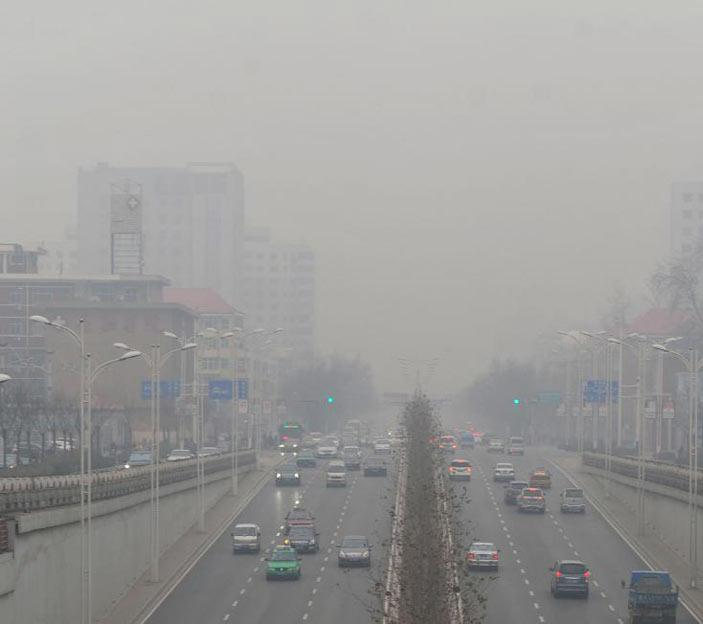bus: (619, 569, 681, 623), (278, 421, 305, 456)
car: (548, 560, 591, 600), (264, 545, 303, 581), (335, 534, 374, 569), (464, 541, 501, 573), (283, 524, 321, 555), (121, 451, 162, 477), (284, 508, 318, 539), (231, 522, 261, 555), (1, 445, 37, 471), (48, 436, 83, 461), (11, 441, 47, 465), (515, 488, 547, 513), (559, 488, 587, 514), (502, 480, 529, 506), (274, 462, 303, 486), (164, 448, 196, 468), (324, 460, 348, 486), (447, 459, 473, 482), (362, 456, 389, 478), (528, 466, 553, 489), (198, 446, 224, 466), (492, 463, 517, 483), (295, 448, 317, 468), (340, 445, 362, 463), (317, 441, 339, 458), (439, 435, 457, 454), (507, 437, 524, 457), (320, 436, 343, 450), (373, 439, 392, 455), (342, 456, 362, 471), (460, 432, 476, 450), (389, 435, 408, 449), (488, 439, 505, 453), (309, 432, 323, 448), (472, 431, 486, 445), (427, 434, 440, 447), (303, 435, 315, 448)
